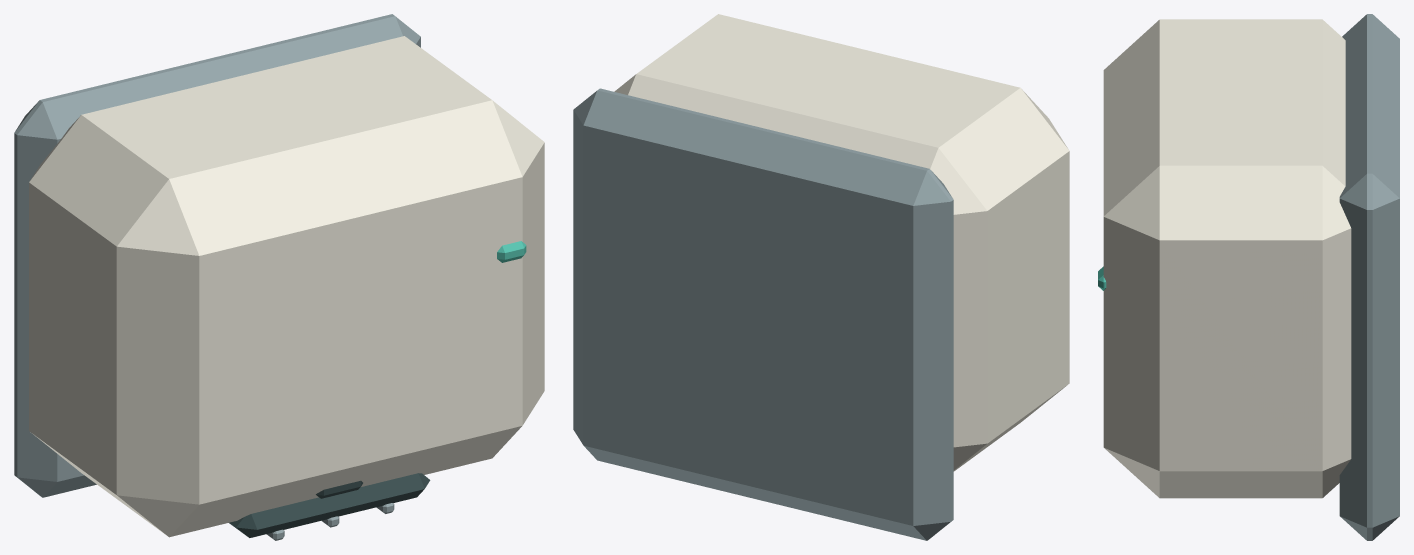
File: Facilities-HandDryer.fbx
The picture shows the model from 3 angles, left to right: view 1: azimuth 30°, elevation 25°; view 2: azimuth 150°, elevation 25°; view 3: azimuth 270°, elevation 25°; orthographic projection. The views are drawn at different scales.
Parts seen in each view (by area): view 1: Dryer Housing, Wall Plate, Air Outlet; view 2: Wall Plate, Dryer Housing; view 3: Dryer Housing, Wall Plate.
Part boxes in pixels (bbox=[...]): Dryer Housing: bbox=[29, 36, 544, 537]; Wall Plate: bbox=[14, 14, 420, 497]; Air Outlet: bbox=[229, 473, 430, 537]; Wall Plate: bbox=[573, 88, 953, 540]; Dryer Housing: bbox=[614, 14, 1069, 471]; Dryer Housing: bbox=[1103, 19, 1351, 498]; Wall Plate: bbox=[1339, 14, 1399, 540].
Bounding box in the file's own units: 0.335 × 0.297 × 0.2205.
